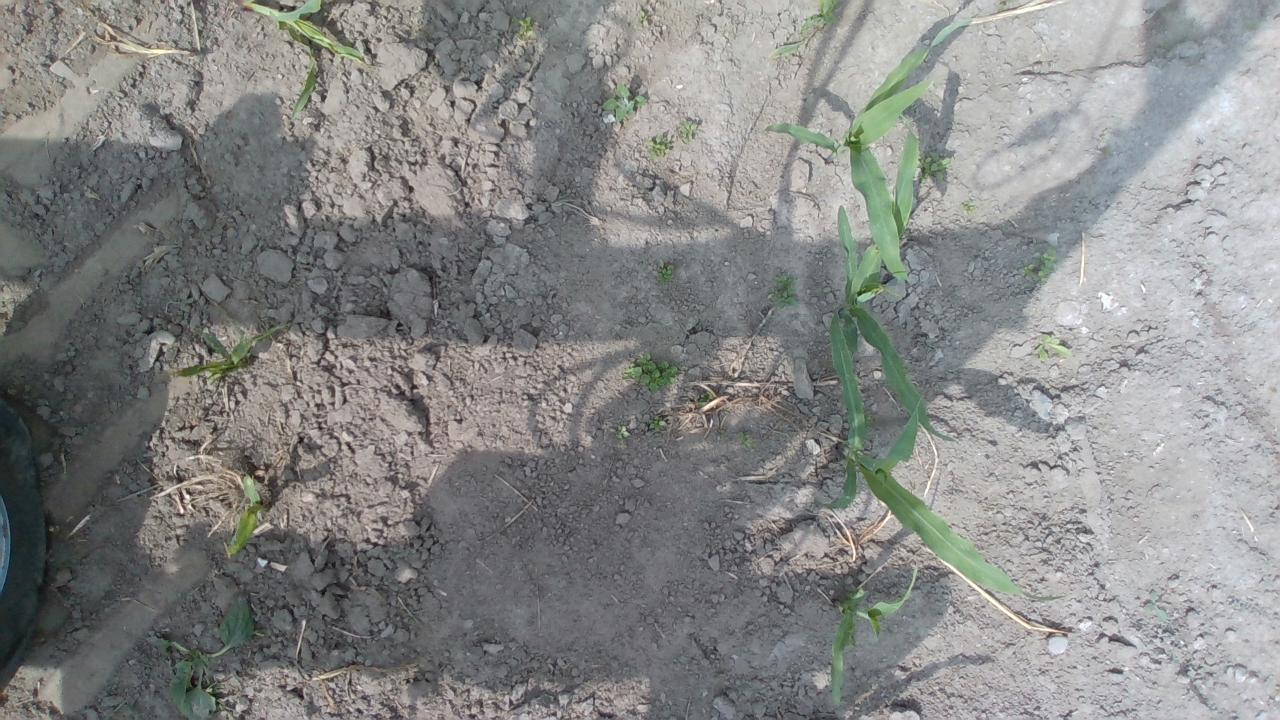Maize: (814, 304, 1066, 607), (765, 17, 974, 285), (821, 114, 962, 509), (829, 566, 921, 706), (176, 317, 290, 383), (770, 0, 838, 59), (229, 472, 261, 554)
Weeds: (145, 598, 255, 720), (620, 352, 679, 394), (600, 82, 647, 123), (1021, 246, 1058, 284), (916, 150, 951, 184), (766, 274, 798, 308), (1034, 334, 1072, 362), (646, 134, 672, 161), (652, 258, 676, 286), (511, 14, 535, 41), (678, 119, 698, 142), (608, 424, 630, 440), (737, 431, 755, 450), (646, 415, 666, 432), (864, 410, 876, 436), (960, 199, 976, 216), (636, 10, 650, 28), (846, 584, 860, 600), (698, 391, 712, 407), (996, 0, 1012, 12)
